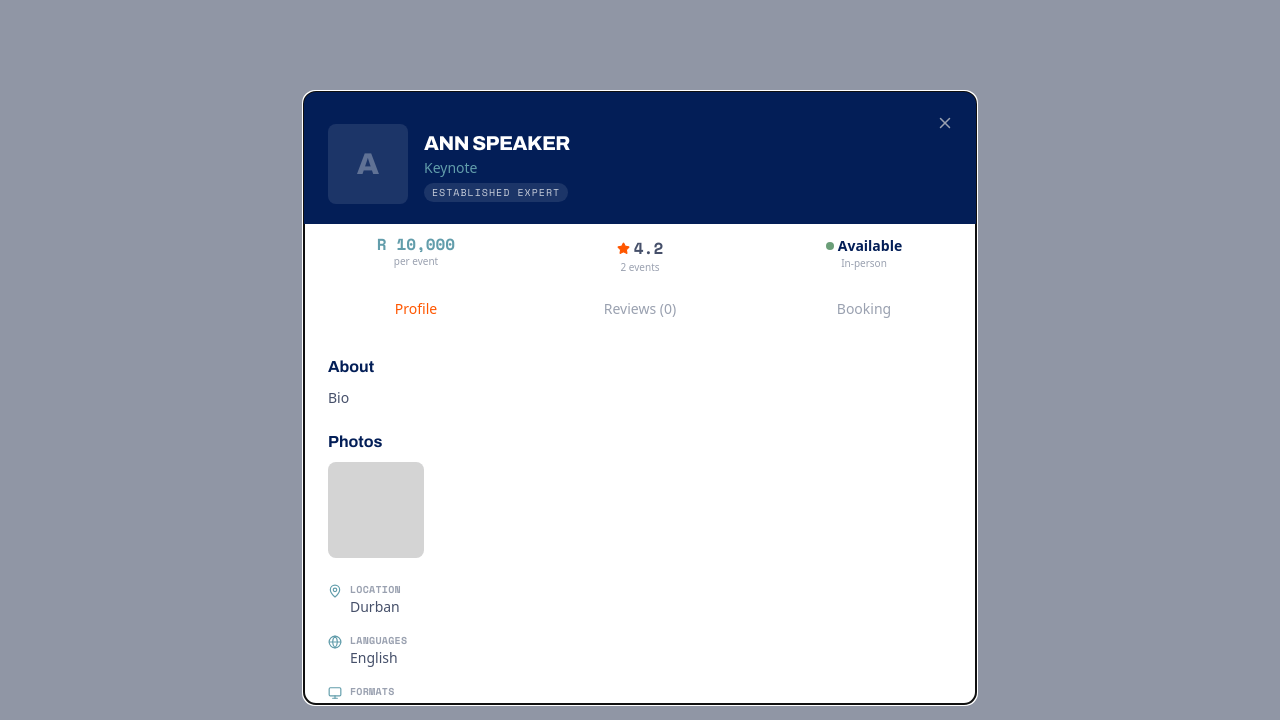
Test: SpeakerModal › shows a loading state rather than 'No reviews yet' while reviews load
Click the tab "Reviews (0)" at (640, 309), box [528, 287, 752, 331]
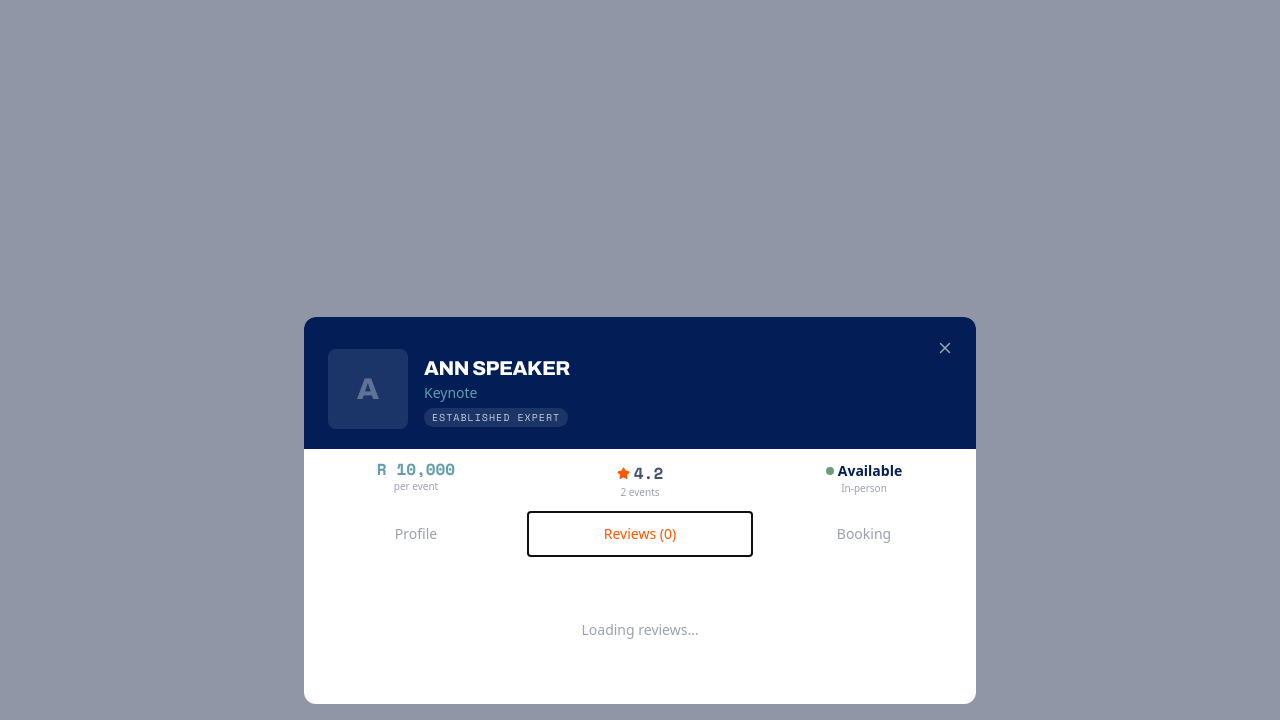
Expected: the text "Loading reviews…" is shown, [582, 620, 698, 639]
